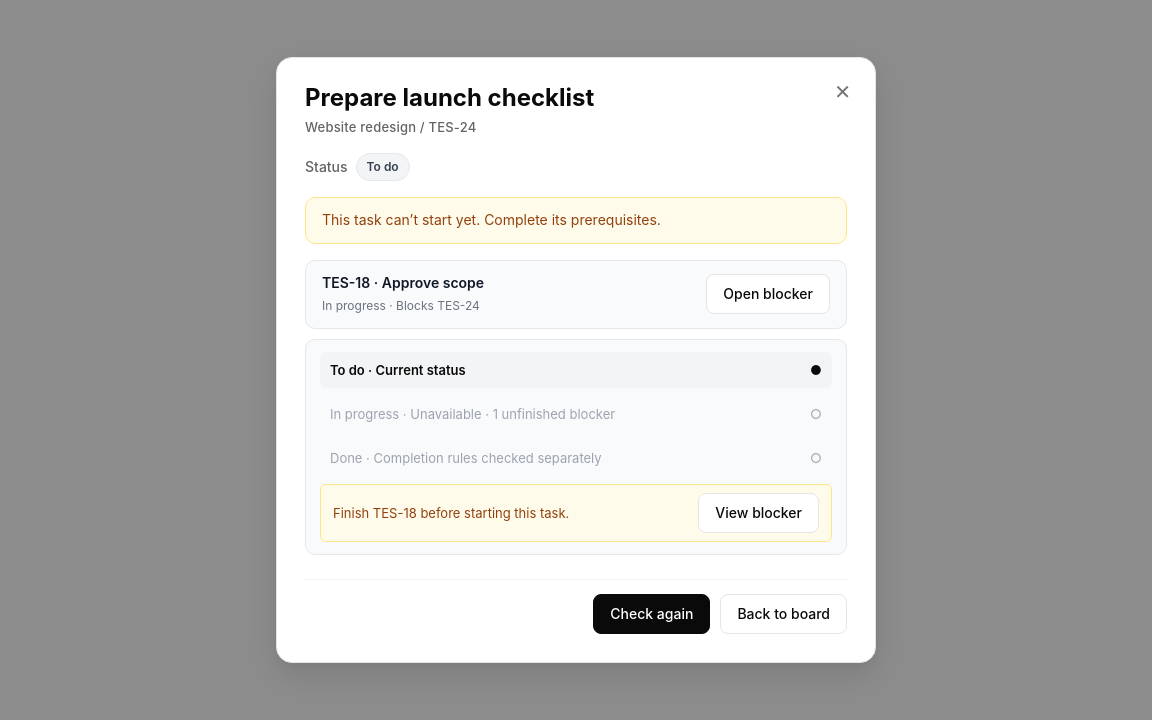
Test case: BlockedTaskStartModal › renders State 08: handles verification/transition failure and provides "Try again"
Step 1. Click the button with test id "check-again-btn" → (652, 614), box [593, 594, 710, 634]
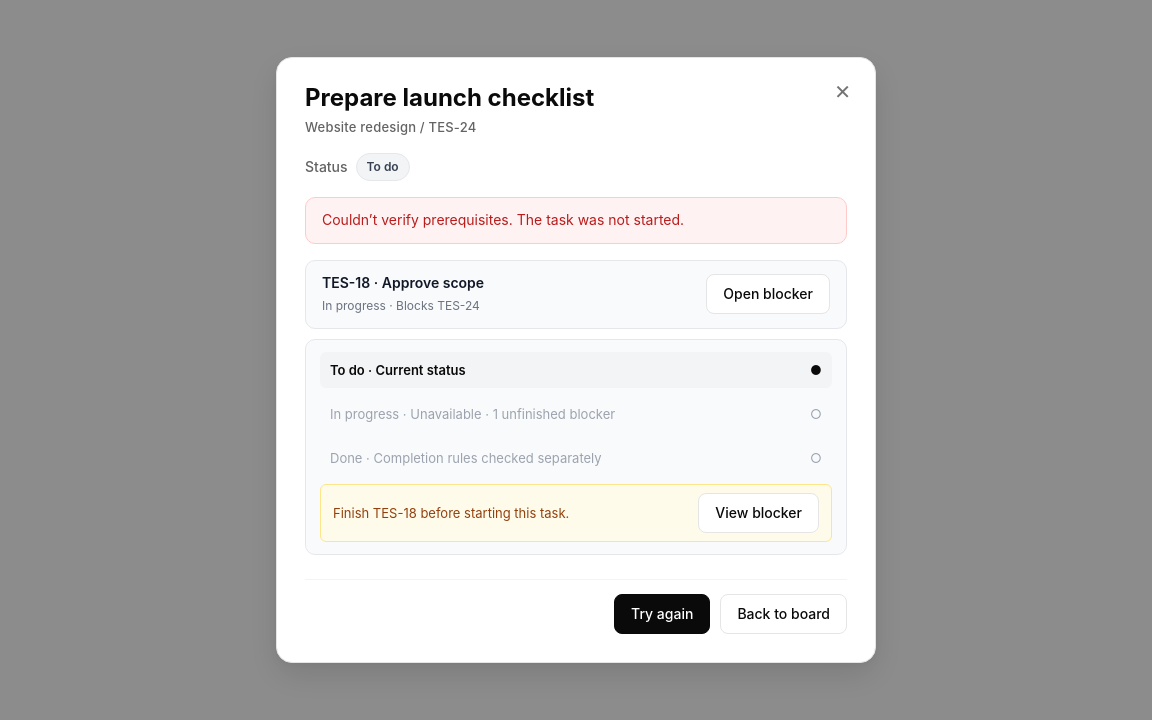
Now the message with test id "verification-failure-banner" reads "Couldn’t verify prerequisites. The task was not started.", box [322, 211, 684, 228]
Now the button with test id "try-again-btn" is shown, box [614, 594, 710, 634]
